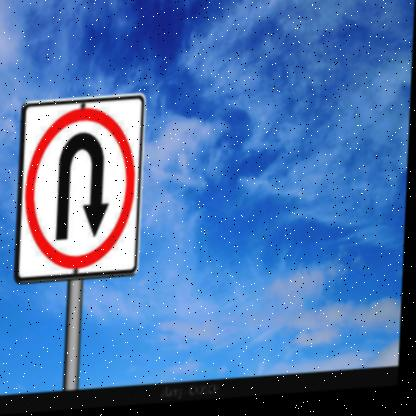U-turn: (20, 98, 146, 278)
